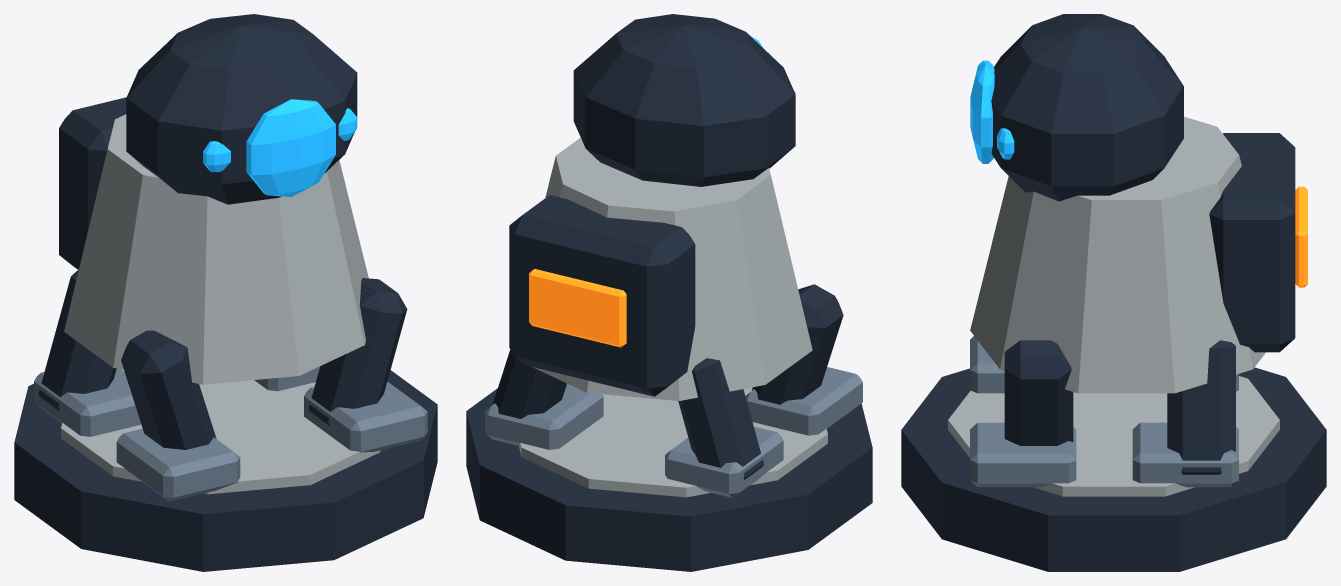
Rendered from android.glb.
The picture shows the model from 3 angles, left to right: view 1: azimuth 30°, elevation 25°; view 2: azimuth 150°, elevation 25°; view 3: azimuth 270°, elevation 25°; orthographic projection. The views are drawn at different scales.
Visible parts, largest first — view 1: Android armoured torso, Hexagonal foundation, Sensor head, Ceramic foundation inset, Articulated leg, Primary optic, Articulated leg.001, Rear power pack, Clawed foot, Clawed foot.001, Clawed foot.002, Articulated leg.002 (+2 smaller); view 2: Hexagonal foundation, Sensor head, Android armoured torso, Rear power pack, Ceramic foundation inset, Articulated leg.002, Power pack cells, Articulated leg, Clawed foot.003, Clawed foot, Clawed foot.002, Articulated leg.003; view 3: Android armoured torso, Hexagonal foundation, Sensor head, Rear power pack, Ceramic foundation inset, Articulated leg.001, Articulated leg.003, Clawed foot.001, Clawed foot.003, Primary optic, Clawed foot, Power pack cells.
Boxes of the visible parts, x1,y1,x2,y2 form: Android armoured torso: (64, 114, 368, 384); Hexagonal foundation: (14, 370, 437, 571); Sensor head: (126, 14, 357, 204); Ceramic foundation inset: (61, 369, 380, 494); Articulated leg: (121, 330, 216, 449); Primary optic: (246, 99, 335, 196); Articulated leg.001: (308, 278, 407, 425); Rear power pack: (59, 97, 126, 269); Clawed foot: (116, 428, 240, 501); Clawed foot.001: (304, 381, 427, 452); Clawed foot.002: (34, 368, 141, 436); Articulated leg.002: (38, 270, 116, 410); Hexagonal foundation: (466, 388, 872, 571); Sensor head: (573, 14, 795, 186); Android armoured torso: (532, 137, 812, 400); Rear power pack: (509, 195, 695, 396); Ceramic foundation inset: (519, 387, 827, 497); Articulated leg.002: (678, 358, 763, 479); Power pack cells: (529, 269, 626, 347); Articulated leg: (752, 284, 843, 404); Clawed foot.003: (485, 383, 603, 449); Clawed foot: (745, 367, 862, 435); Clawed foot.002: (665, 426, 783, 497); Articulated leg.003: (492, 349, 566, 418); Android armoured torso: (970, 116, 1265, 393); Hexagonal foundation: (901, 367, 1326, 571); Sensor head: (991, 14, 1183, 201); Rear power pack: (1209, 133, 1295, 352); Ceramic foundation inset: (948, 376, 1279, 496); Articulated leg.001: (1004, 340, 1073, 445); Articulated leg.003: (1167, 340, 1235, 474); Clawed foot.001: (970, 422, 1076, 487); Clawed foot.003: (1132, 422, 1238, 487); Primary optic: (970, 60, 994, 163); Clawed foot: (970, 336, 1004, 393); Power pack cells: (1295, 186, 1307, 287).
Size of the model in its own units: 0.6467 by 0.81 by 0.68.
